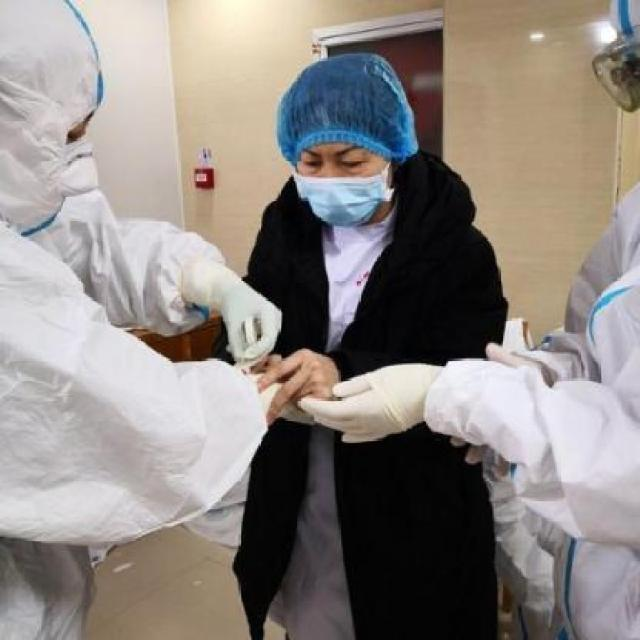face_mask: (286, 142, 388, 229)
hand_glove: (302, 365, 418, 446), (215, 290, 283, 368)
hand_noglove: (258, 346, 337, 425)
head_nohelmet: (274, 52, 406, 154)
person: (202, 32, 500, 640)
